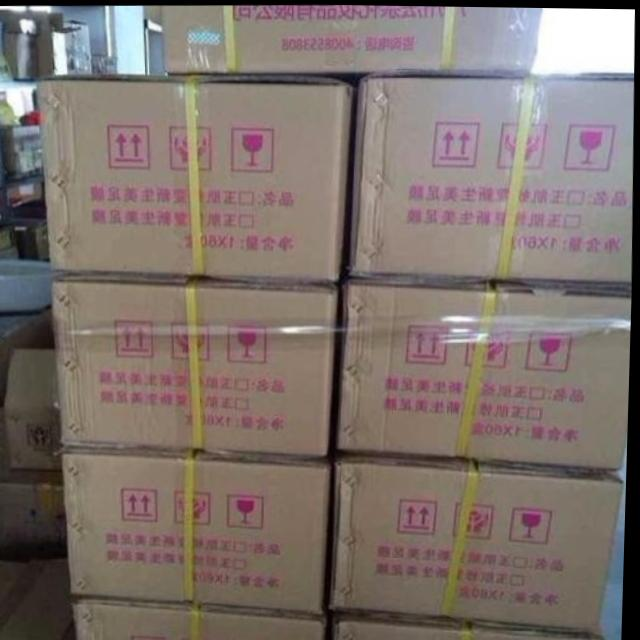box: (36, 72, 353, 282), (349, 71, 633, 283), (340, 276, 632, 470), (332, 450, 627, 630), (51, 273, 341, 456), (63, 444, 333, 611), (160, 4, 542, 72), (76, 595, 329, 640), (337, 609, 611, 640)
